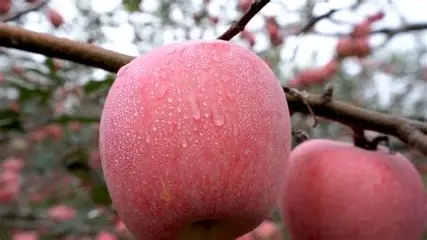ripe_apple: (98, 38, 293, 237), (279, 135, 427, 240)
